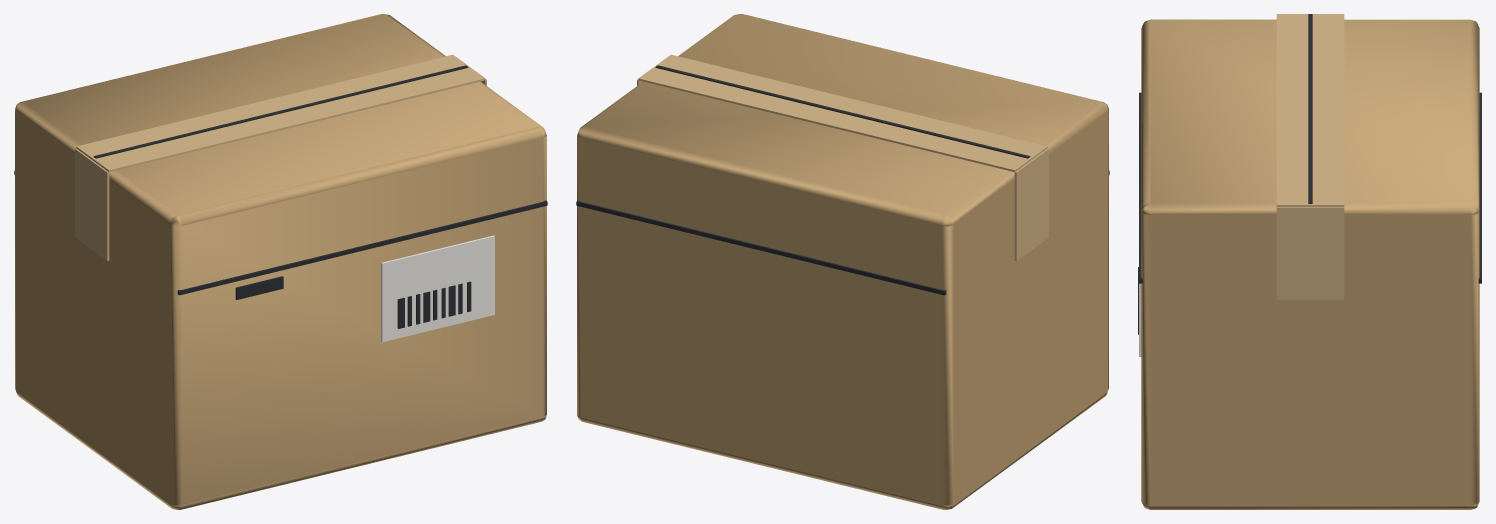
File: carton.glb
3 views of the same model, side by side, from view 1: azimuth 30°, elevation 25°; view 2: azimuth 150°, elevation 25°; view 3: azimuth 270°, elevation 25° (orthographic). The views are drawn at different scales.
Parts seen in each view (by area): view 1: carton; view 2: carton; view 3: carton.
Boxes of the visible parts, x1,y1,x2,y2 form: carton: [14, 14, 547, 509]; carton: [576, 14, 1109, 509]; carton: [1138, 14, 1481, 509].
Bounding box in the file's own units: 0.404 × 0.303 × 0.305.
Materials: 1 (1 with a texture image).
